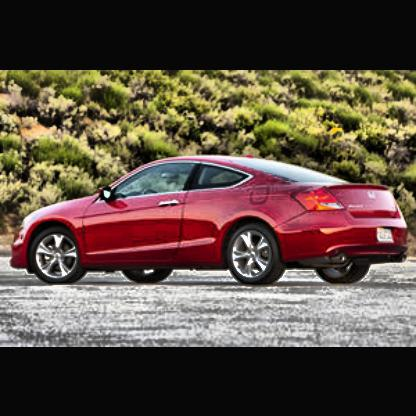Honda Accord Coupe 2012: (13, 155, 410, 286)
